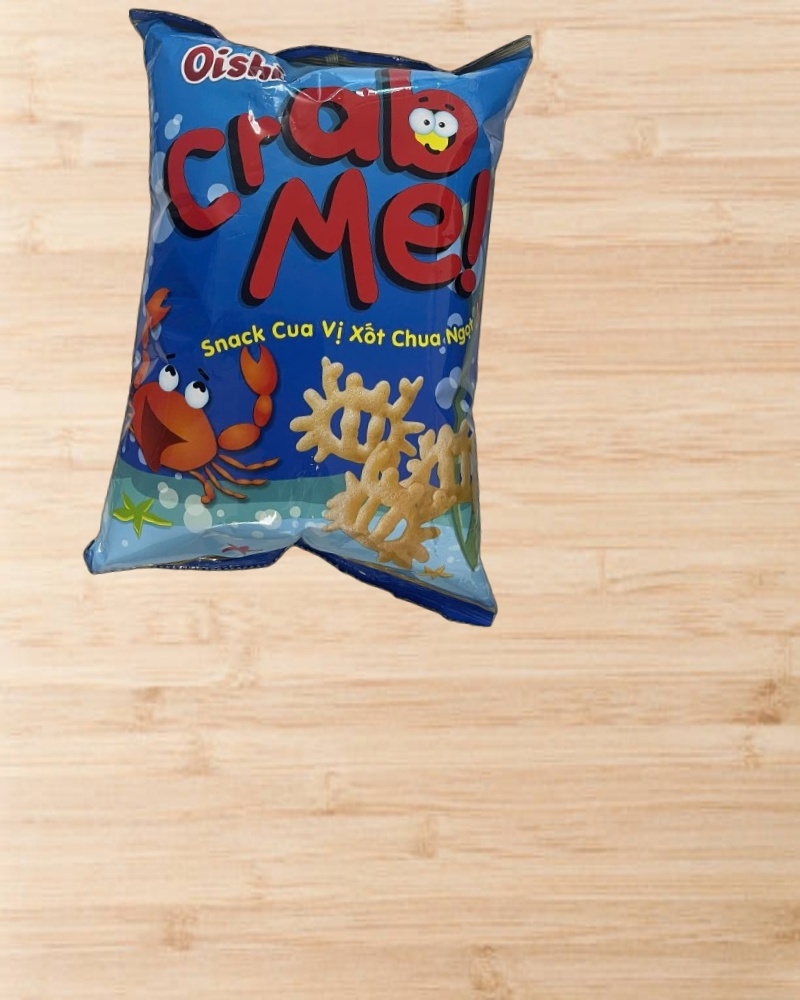Snack cua: (80, 1, 547, 622)
